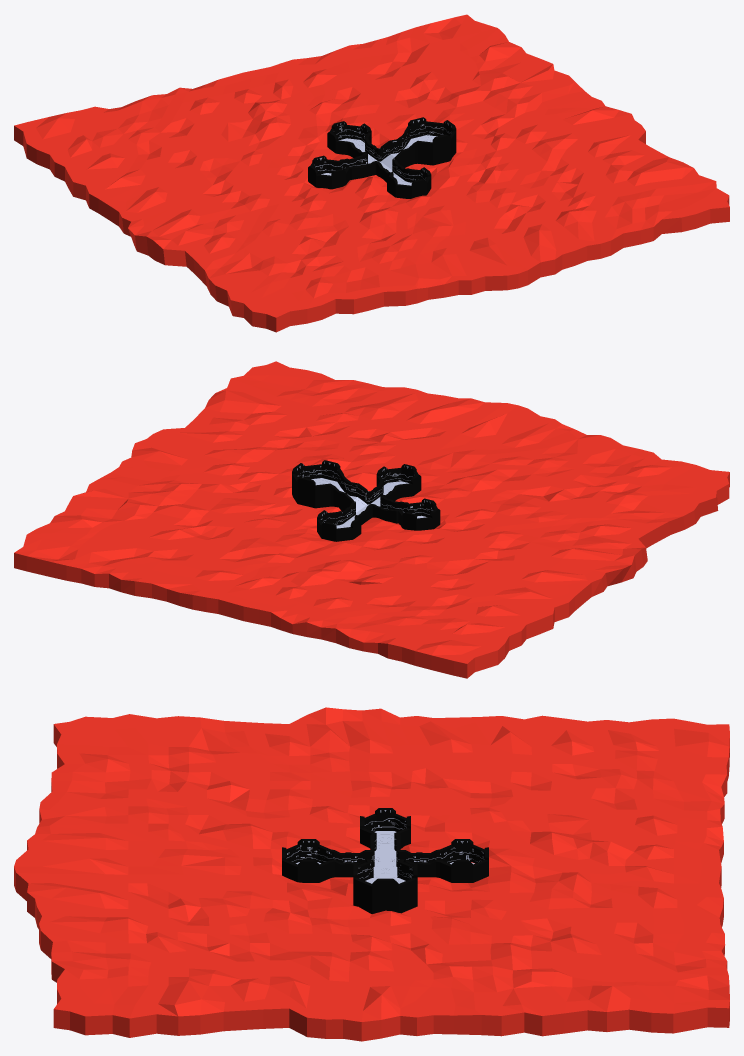
The model's file is Base 1+Environment 1.FBX.
3 views of the same model, one above another, from view 1: azimuth 30°, elevation 25°; view 2: azimuth 150°, elevation 25°; view 3: azimuth 270°, elevation 25° (orthographic). The views are drawn at different scales.
Parts seen in each view (by area): view 1: OutdoorTerrain, Walls, Floor, Wall Details; view 2: OutdoorTerrain, Walls, Floor, Wall Details; view 3: OutdoorTerrain, Walls, Floor, Wall Details.
Boxes of the visible parts, <box> form: OutdoorTerrain: <box>14,14,729,332</box>; Walls: <box>308,117,456,198</box>; Floor: <box>321,135,437,185</box>; Wall Details: <box>315,119,451,179</box>; OutdoorTerrain: <box>14,361,729,678</box>; Walls: <box>292,460,440,541</box>; Floor: <box>311,478,426,528</box>; Wall Details: <box>297,461,432,524</box>; OutdoorTerrain: <box>14,707,729,1041</box>; Walls: <box>282,808,488,913</box>; Floor: <box>296,831,474,883</box>; Wall Details: <box>286,810,484,878</box>.
Size of what is drawn, in the model's own units: 13116 by 1043 by 12716.
